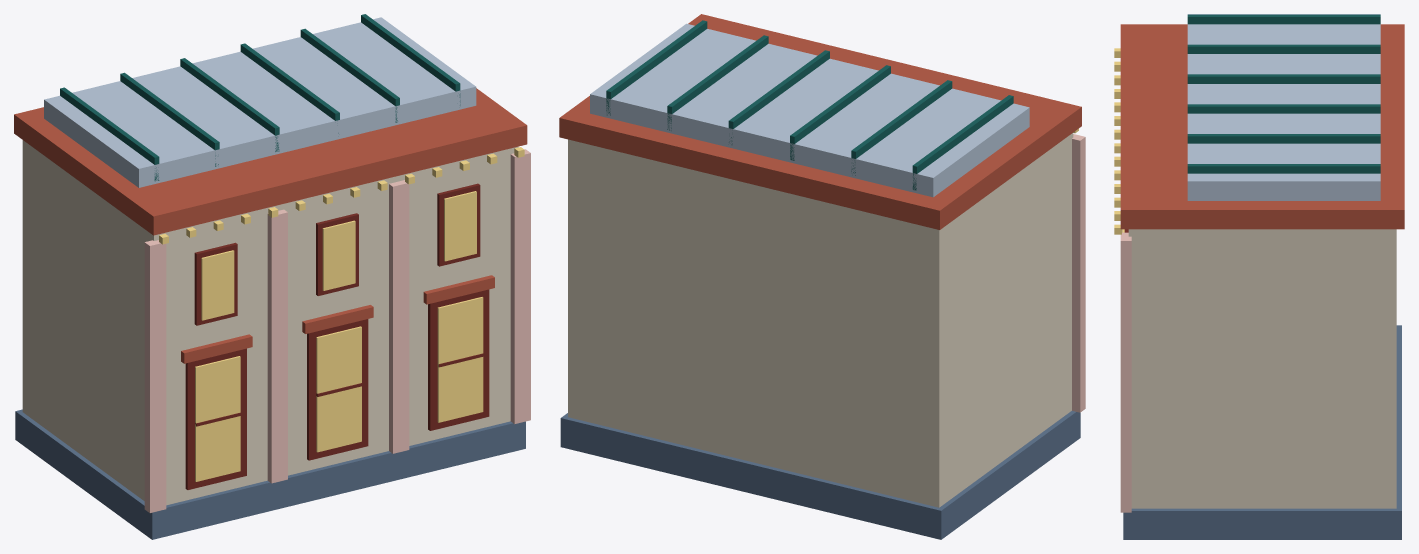
File: bld_gum.glb
The picture shows the model from 3 angles, left to right: view 1: azimuth 30°, elevation 25°; view 2: azimuth 150°, elevation 25°; view 3: azimuth 270°, elevation 25°; orthographic projection.
Visible parts, largest first — view 1: bld_gum; view 2: bld_gum; view 3: bld_gum.
Boxes of the visible parts, box(x1,y1,x2,y2) form: bld_gum: box(14, 14, 530, 539); bld_gum: box(559, 14, 1085, 539); bld_gum: box(1114, 14, 1404, 539).
Bounding box in the file's own units: 8.36 × 7.35 × 5.42.
1 material, 1 textured.
